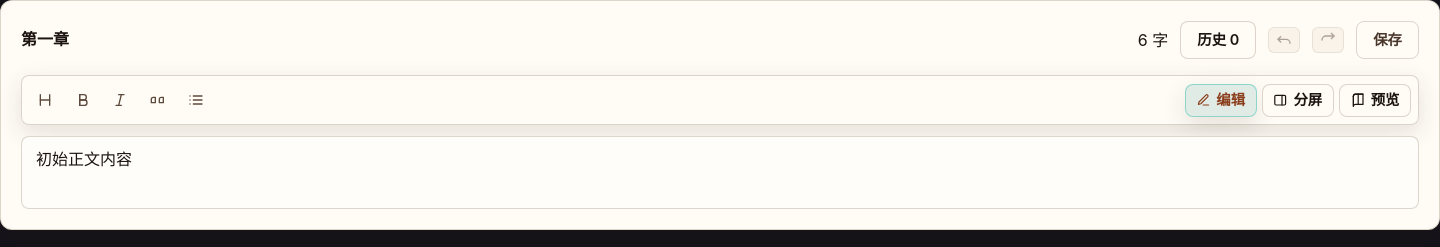
Test: ChapterEditor › rejects saveIfDirty when persistence fails so navigation can stay put
Replace the text in the text box named "章节正文" with "不能丢失的修改" at (720, 172), box [21,136,1419,209]
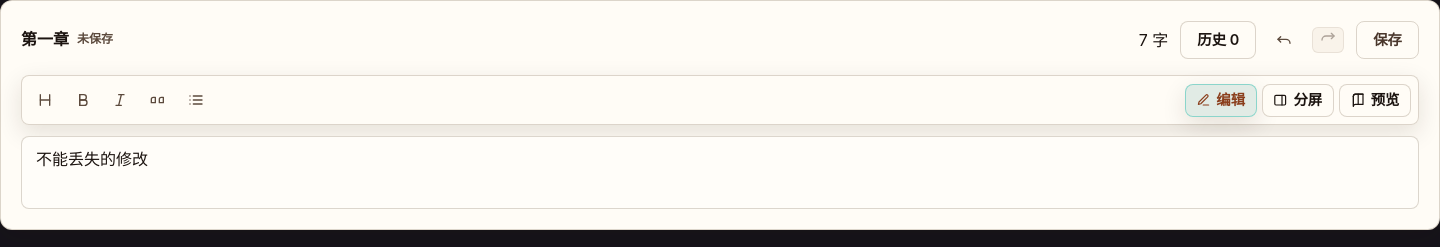
Now the text "未保存" is shown, box [77,30,113,50]
